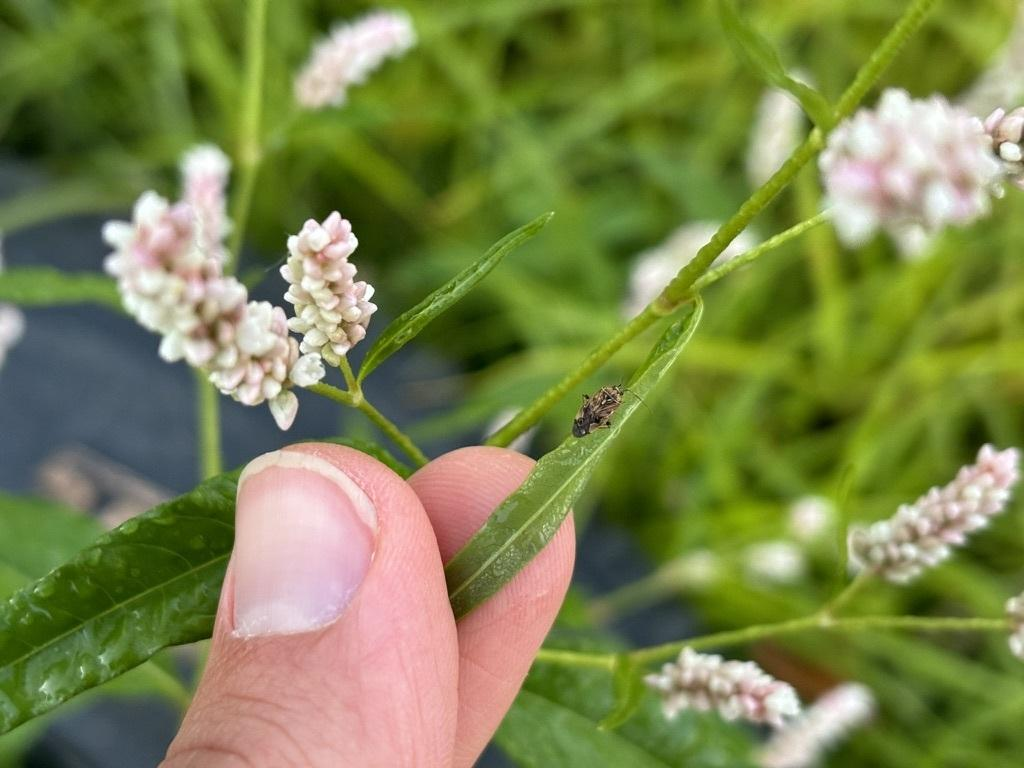plant_bugs: (543, 351, 658, 453)
